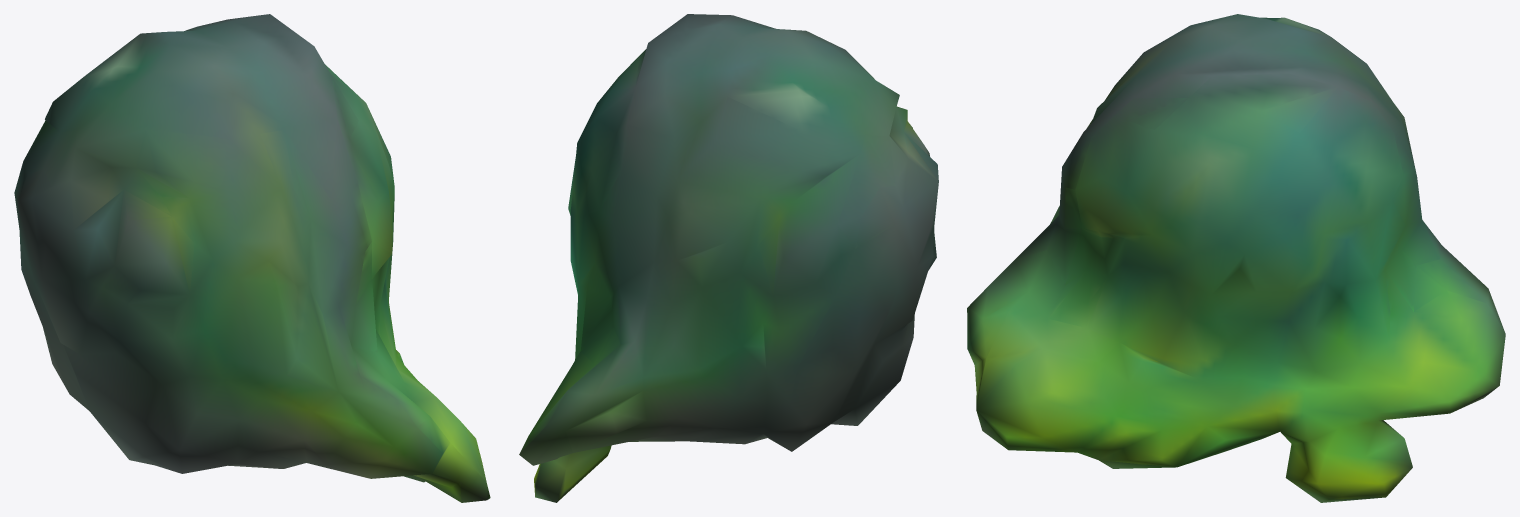
The model's file is glow_slime.glb.
3 renders of one model, left to right at view 1: azimuth 30°, elevation 25°; view 2: azimuth 150°, elevation 25°; view 3: azimuth 270°, elevation 25°, orthographic. The views are drawn at different scales.
Parts seen in each view (by area): view 1: model; view 2: model; view 3: model.
Boxes of the visible parts, x1,y1,x2,y2 form: model: [14, 14, 490, 502]; model: [519, 14, 938, 502]; model: [967, 14, 1505, 502].
Bounding box in the file's own units: 0.2609 × 0.3359 × 0.3997.
1 material, 1 textured.
